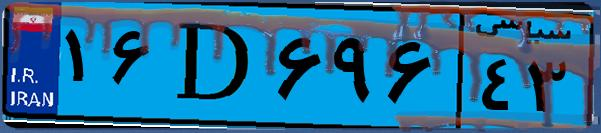1: (57, 26, 110, 100)
3: (525, 38, 570, 115)
4: (475, 38, 525, 113)
6: (270, 28, 330, 110), (385, 28, 445, 110), (110, 28, 158, 98)
9: (330, 28, 385, 110)
D: (158, 12, 270, 120)
